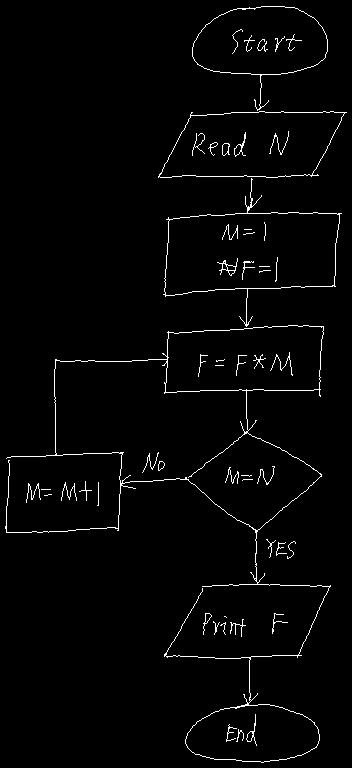arrow: (54, 353, 168, 455), (120, 475, 188, 488), (250, 531, 264, 583), (240, 389, 256, 433), (243, 658, 257, 703), (245, 178, 261, 212), (254, 74, 268, 110), (239, 288, 252, 326)
data: (158, 111, 346, 177), (164, 584, 330, 658)
decision: (185, 431, 321, 532)
process: (163, 212, 341, 296), (164, 325, 323, 396), (5, 452, 123, 532)
terminator: (192, 6, 327, 74), (185, 704, 319, 762)
text: (217, 222, 277, 281), (192, 131, 288, 156), (198, 352, 292, 376), (203, 613, 287, 636), (26, 481, 98, 505), (232, 29, 301, 53), (226, 714, 256, 745), (225, 466, 274, 484), (266, 539, 295, 558), (142, 452, 164, 472)
